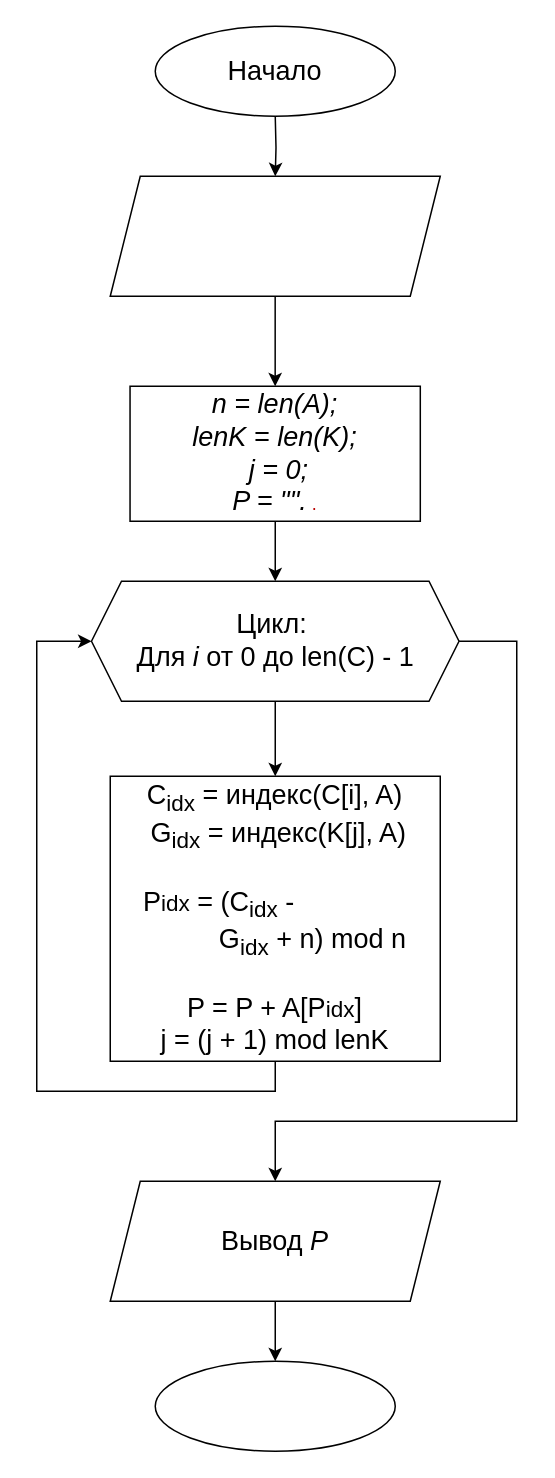
Some shapes in this 555 by 1478 pixel diagram are drawn without their labels. Each missing label, with the centre of its shape:
"Ввод C, K, A" goes at pixel 274 235.
"Конец" goes at pixel 274 1405.
